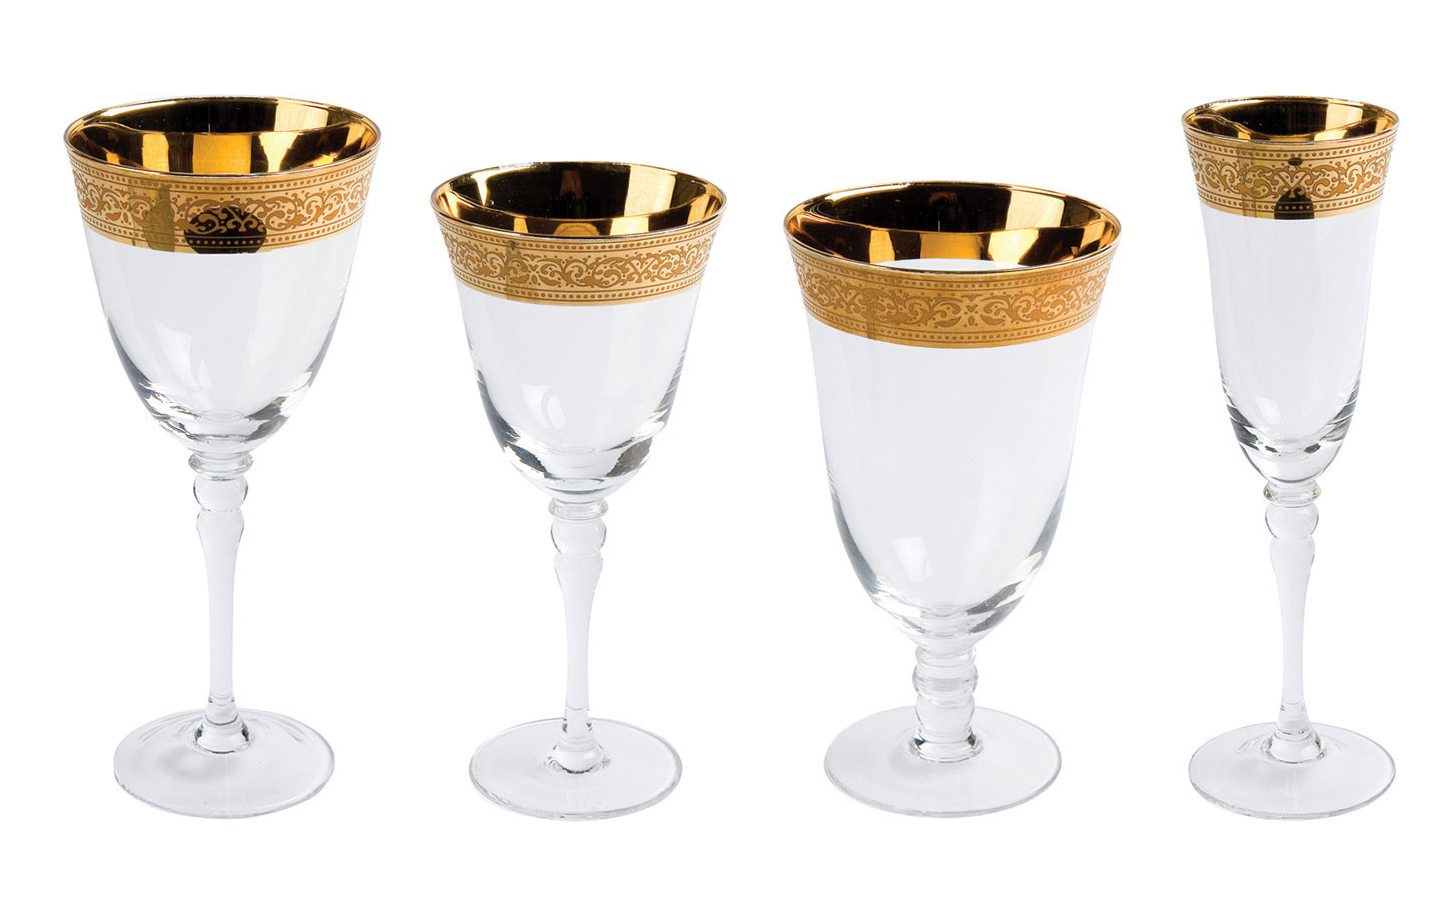Nonrec_Glass: (30, 46, 388, 836), (762, 111, 1124, 837), (436, 95, 718, 827), (1166, 55, 1424, 845)
